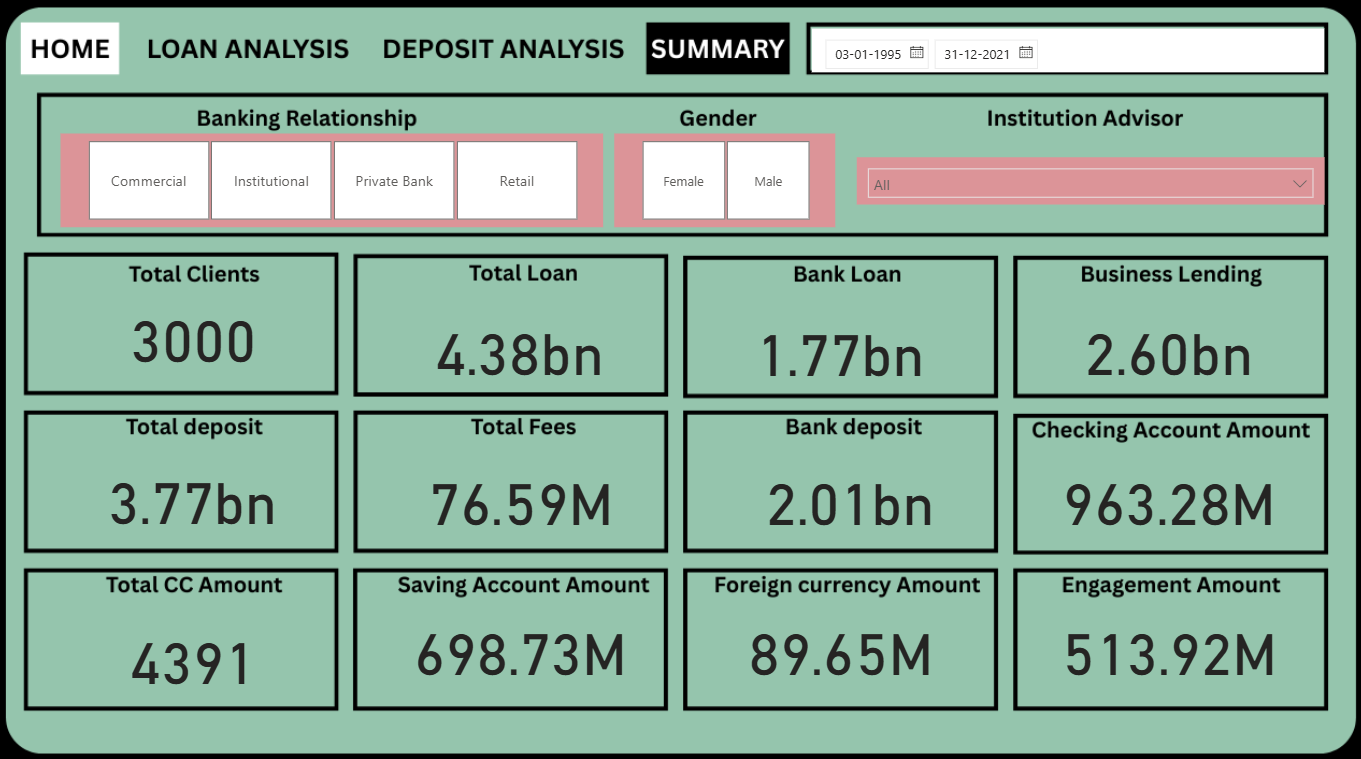

This screenshot's page, from the dashboard's own definition file:
{"tool":"powerbi","page":{"name":"Summary","canvas":[1280,720],"ordinal":3},"visuals":[{"type":"slicer","fields":{"Values":["Banking.Joined Bank"]},"box":[761.6,30.2,477,41.2],"z":0},{"type":"slicer","fields":{"Values":["Banking.BRId"]},"box":[62.8,127.9,504.7,87.2],"z":1000},{"type":"slicer","fields":{"Values":["Banking.GenderId"]},"box":[577.9,127.9,205.8,87.2],"z":2000},{"type":"slicer","fields":{"Values":["Banking.IAId"]},"box":[803.5,150,434.9,44.2],"z":3000},{"type":"actionButton","box":[24.4,25.6,93,45.3],"z":4000},{"type":"card","fields":{"Values":["CountNonNull(Banking.Name)"]},"box":[58.1,281.4,257,67.4],"z":5000},{"type":"card","fields":{"Values":["Sum(Banking.Superannuation Savings)"]},"box":[362.8,432.6,257,67.4],"z":6000},{"type":"card","fields":{"Values":["Sum(Banking.Checking Accounts)"]},"box":[965.1,432.6,258.1,67.4],"z":7000},{"type":"card","fields":{"Values":["Sum(Banking.Bank Deposits)"]},"box":[668.6,432.6,258.1,67.4],"z":8000},{"type":"card","fields":{"Values":["Sum(Banking.Bank Loans)"]},"box":[659.3,294.2,258.1,66.3],"z":9000},{"type":"card","fields":{"Values":["Sum(Banking.Business Lending)"]},"box":[965.1,293,258.1,67.4],"z":10000},{"type":"card","fields":{"Values":["Sum(Banking.Foreign Currency Account)"]},"box":[660.5,572.1,257,67.4],"z":11000},{"type":"card","fields":{"Values":["Sum(Banking.Saving Accounts)"]},"box":[361.6,572.1,258.1,67.4],"z":12000},{"type":"card","fields":{"Values":["Sum(Banking.Amount of Credit Cards)"]},"box":[57,580.2,258.1,67.4],"z":13000},{"type":"card","fields":{"Values":["Banking.Total Deposit"]},"box":[57,432.6,258.1,66.3],"z":14000},{"type":"card","fields":{"Values":["Banking.Total Loan"]},"box":[361.6,293,257,67.4],"z":15000},{"type":"card","fields":{"Values":["Sum(Banking.Estimated Income)"]},"box":[965.1,572.1,258.1,67.4],"z":16000},{"type":"actionButton","box":[139.5,27.9,196.5,45.3],"z":17000},{"type":"actionButton","box":[361.6,27.9,224.4,45.3],"z":18000}]}

Visuals, with their boxes in screenshot pixels (x1, y1, x2, y2), scaled from the page's 1280x720 canvas onto the 1361x759 screenshot:
slicer - Banking.Joined Bank: l=810, t=32, r=1317, b=75
slicer - Banking.BRId: l=67, t=135, r=603, b=227
slicer - Banking.GenderId: l=614, t=135, r=833, b=227
slicer - Banking.IAId: l=854, t=158, r=1317, b=205
actionButton: l=26, t=27, r=125, b=75
card - CountNonNull(Banking.Name): l=62, t=297, r=335, b=368
card - Sum(Banking.Superannuation Savings): l=386, t=456, r=659, b=527
card - Sum(Banking.Checking Accounts): l=1026, t=456, r=1301, b=527
card - Sum(Banking.Bank Deposits): l=711, t=456, r=985, b=527
card - Sum(Banking.Bank Loans): l=701, t=310, r=975, b=380
card - Sum(Banking.Business Lending): l=1026, t=309, r=1301, b=380
card - Sum(Banking.Foreign Currency Account): l=702, t=603, r=976, b=674
card - Sum(Banking.Saving Accounts): l=384, t=603, r=659, b=674
card - Sum(Banking.Amount of Credit Cards): l=61, t=612, r=335, b=683
card - Banking.Total Deposit: l=61, t=456, r=335, b=526
card - Banking.Total Loan: l=384, t=309, r=658, b=380
card - Sum(Banking.Estimated Income): l=1026, t=603, r=1301, b=674
actionButton: l=148, t=29, r=357, b=77
actionButton: l=384, t=29, r=623, b=77
